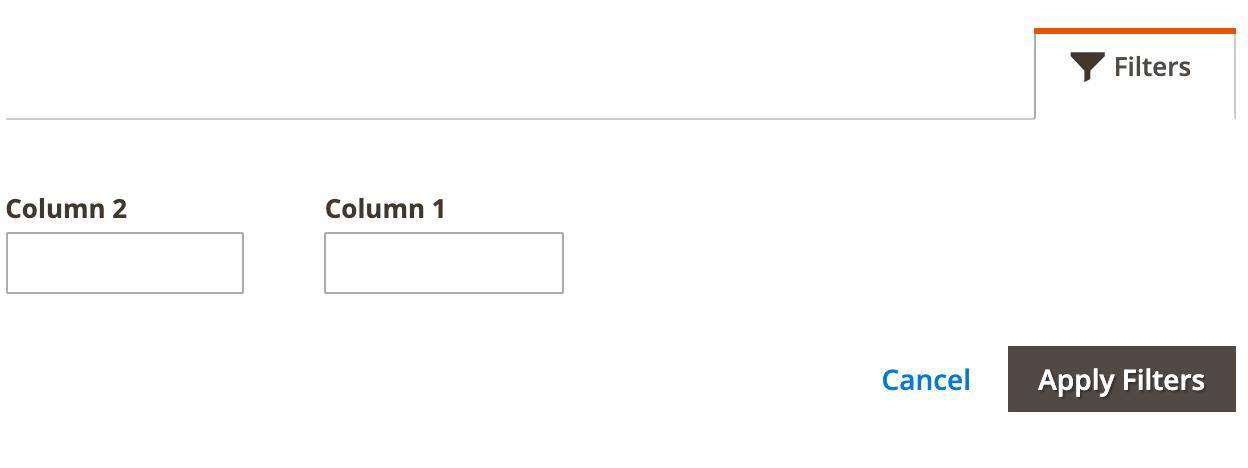button: (1038, 32, 1239, 123), (1008, 347, 1239, 414), (871, 350, 989, 410)
input: (5, 236, 244, 295), (325, 234, 563, 292)
label: (3, 195, 132, 222), (323, 198, 454, 223)
